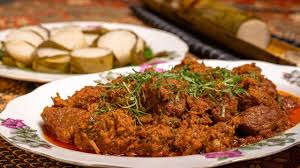rendang: (14, 47, 300, 164)
